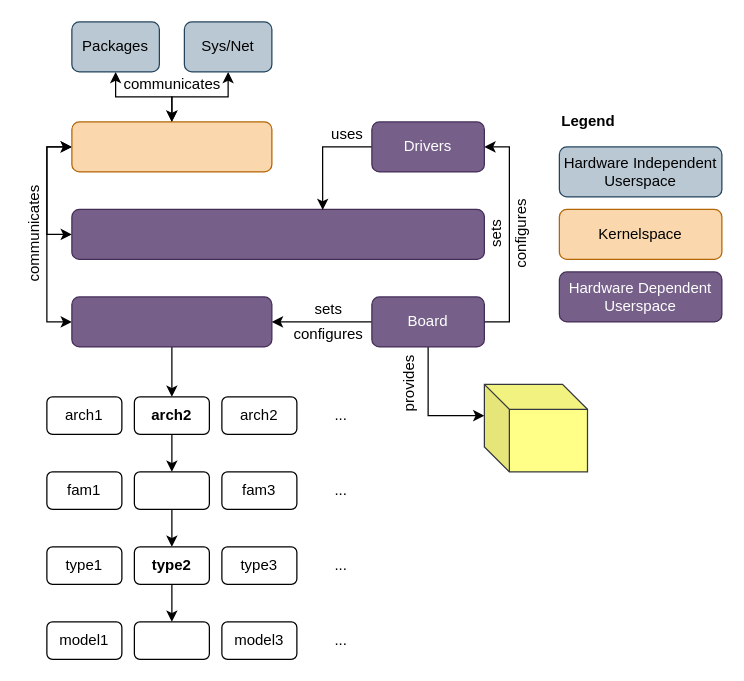
The diagram is 744 pixels wide and 681 high, and some of its shapes have lost their labels. The shapes that lost their labels are listed below. From the top down, each one's centre as x and y in pixels, then its label:
pixel 171 146: Kernel (core)
pixel 277 233: Peripherals (Unified API)
pixel 171 321: CPU
pixel 535 427: Board Tooling
pixel 171 490: fam2
pixel 171 640: model2
